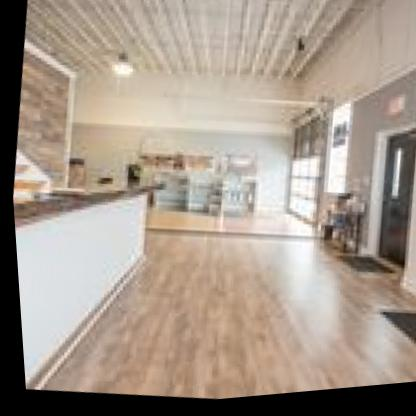Wooden floor: (20, 236, 414, 402)
